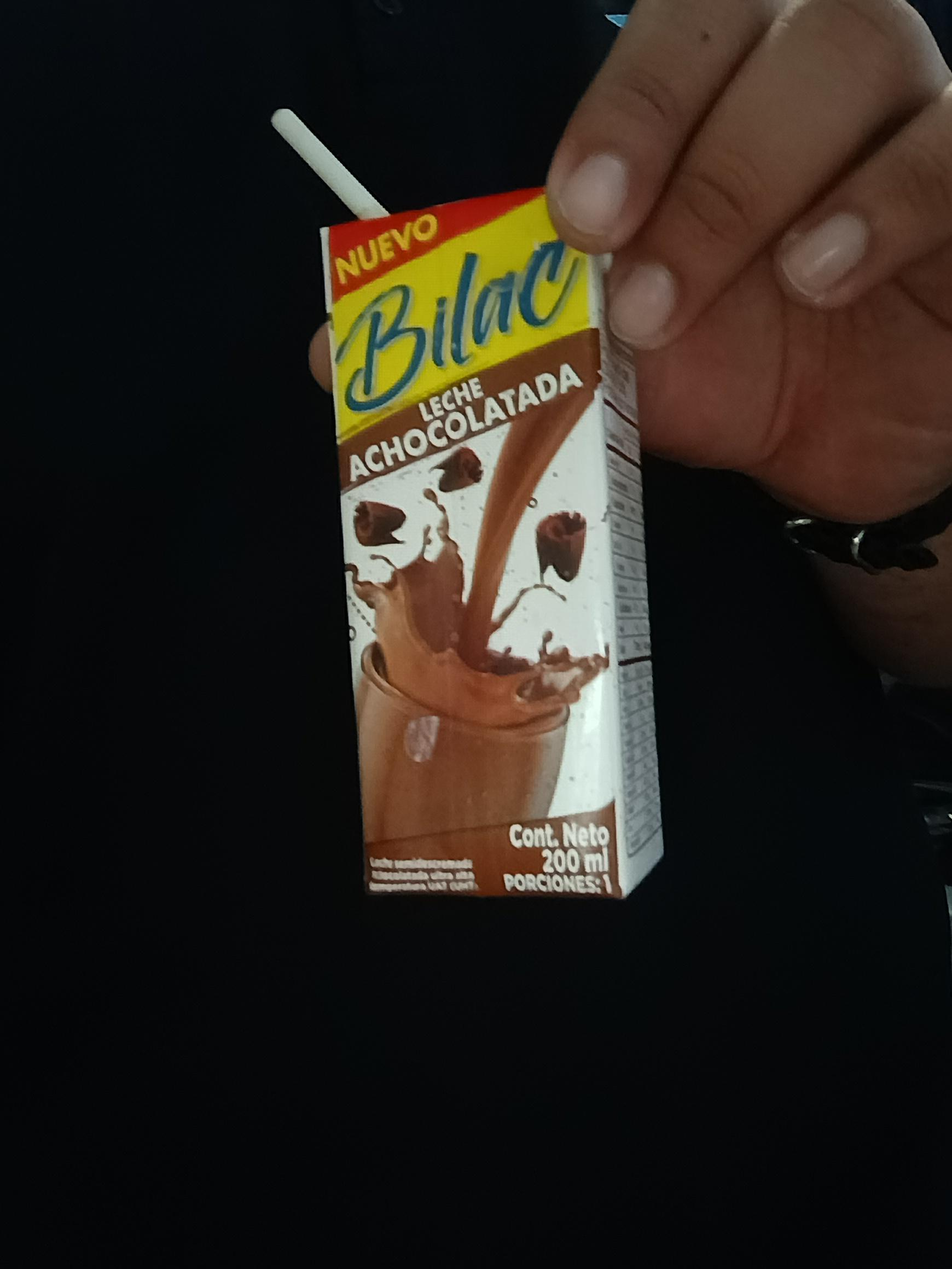Carton: (319, 191, 671, 892)
